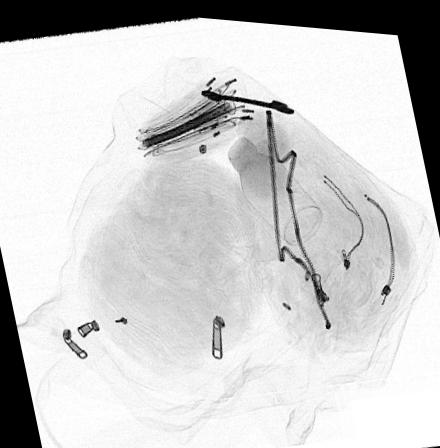Wrench: (199, 85, 296, 110)
